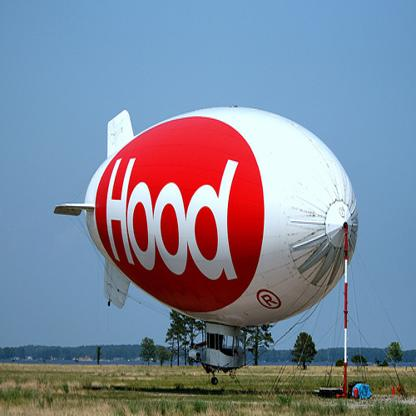Airship: (58, 105, 365, 373)
